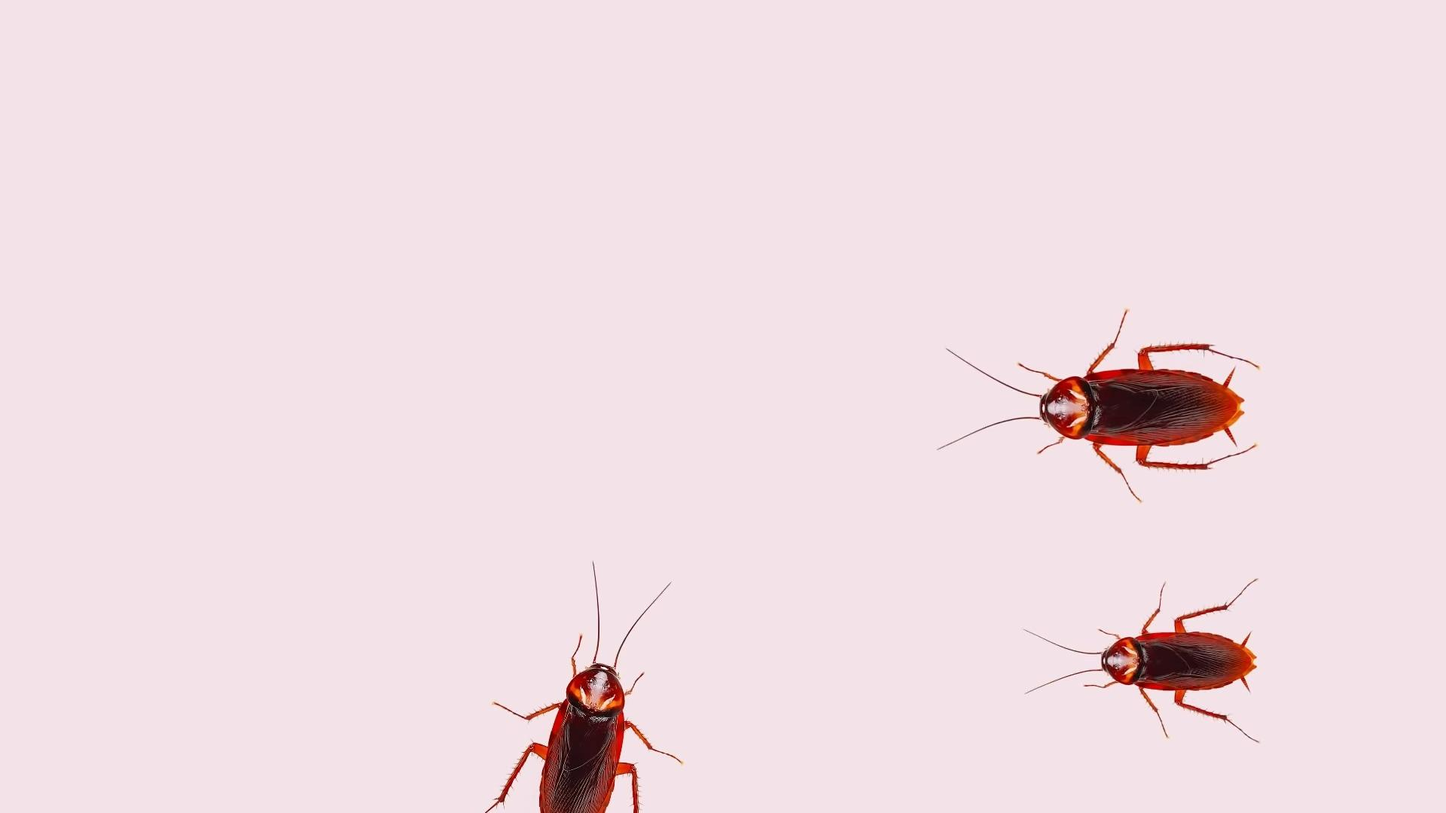cockroach: (978, 332, 1254, 467), (1021, 601, 1277, 730), (518, 601, 662, 813)
